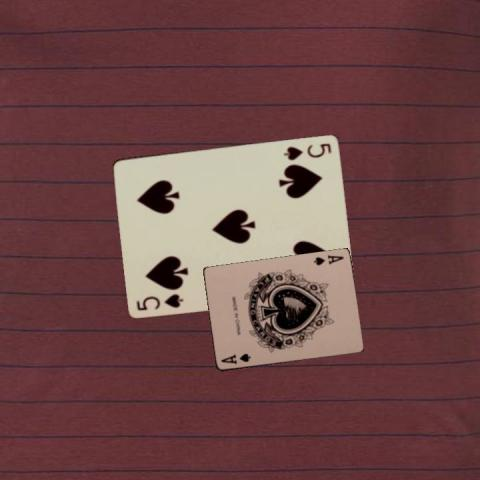5s: (133, 290, 186, 312), (280, 140, 332, 161)
As: (310, 252, 344, 267), (218, 351, 252, 365)
